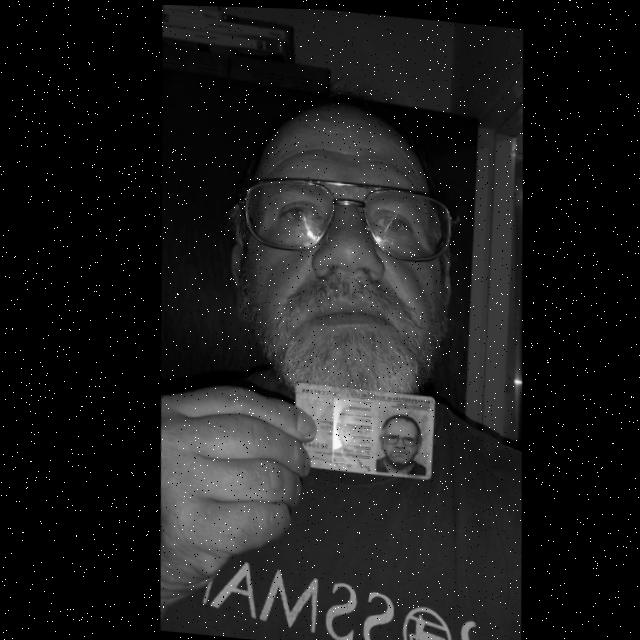card: (294, 380, 434, 480)
